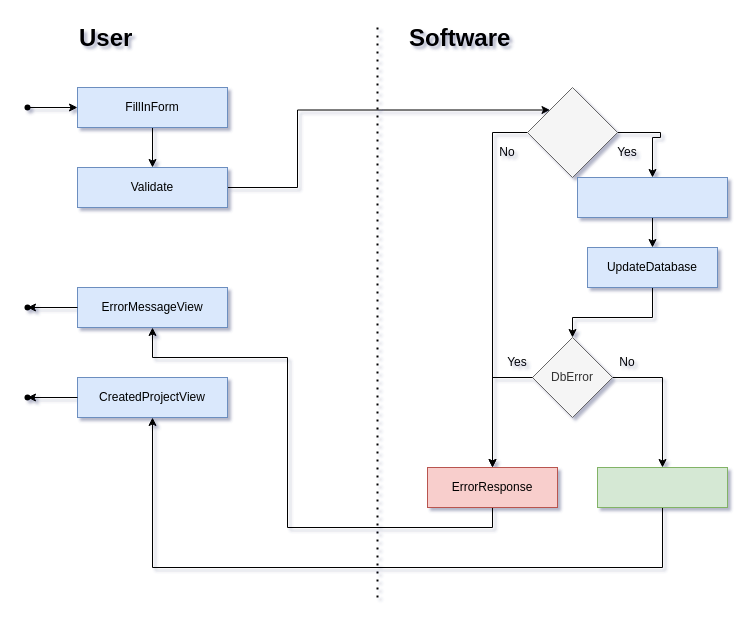
The diagram is 751 pixels wide and 622 high, and some of its shapes have lost their labels. Each missing label, with the centre of its shape:
"GenerateQuery" goes at (x=652, y=197).
"IsAuthenticated" goes at (x=572, y=132).
"ReturnCreatedProject" goes at (x=662, y=487).
